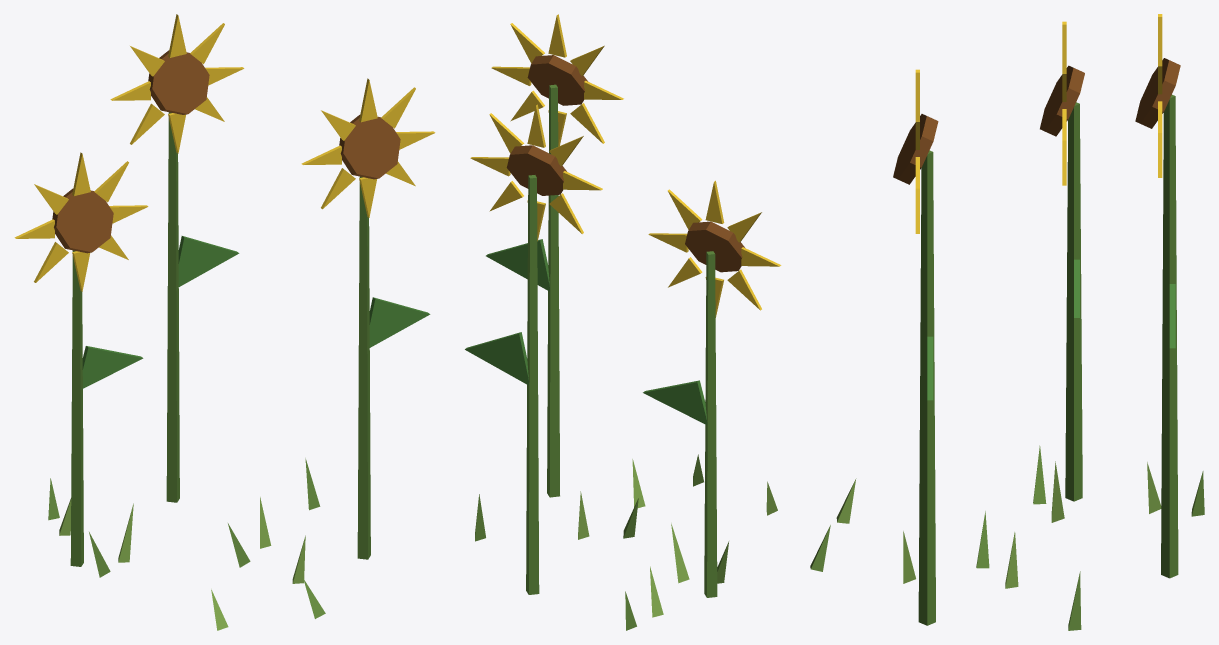
The model's file is cover_sunflowers.glb.
3 renders of one model, left to right at view 1: azimuth 30°, elevation 25°; view 2: azimuth 150°, elevation 25°; view 3: azimuth 270°, elevation 25°, orthographic. The views are drawn at different scales.
Parts seen in each view (by area): view 1: scatter_sunflowers; view 2: scatter_sunflowers; view 3: scatter_sunflowers.
Boxes of the visible parts, x1,y1,x2,y2 form: scatter_sunflowers: (14,14,435,630); scatter_sunflowers: (465,14,781,630); scatter_sunflowers: (810,14,1204,630).
Size of the model in its own units: 1.61 by 2.12 by 1.36.
